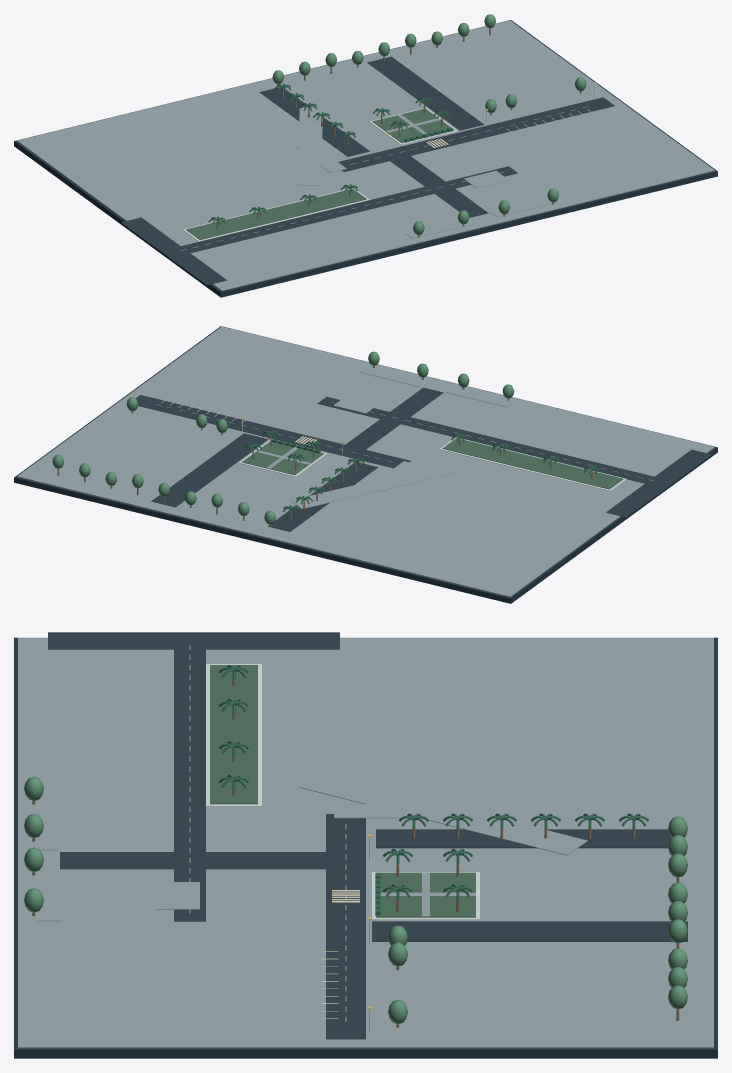
Rendered from lansekap.glb.
The picture shows the model from 3 angles, top to bottom: view 1: azimuth 30°, elevation 25°; view 2: azimuth 150°, elevation 25°; view 3: azimuth 270°, elevation 25°; orthographic projection. The views are drawn at different scales.
Parts seen in each view (by area): view 1: Lansekap_paving, Lansekap_road, Lansekap_base, Lansekap_grass, Lansekap_leaflight, Lansekap_leaf, Lansekap_trim; view 2: Lansekap_paving, Lansekap_road, Lansekap_base, Lansekap_grass, Lansekap_leaflight, Lansekap_leaf, Lansekap_trim, Lansekap_trunk; view 3: Lansekap_paving, Lansekap_road, Lansekap_base, Lansekap_grass, Lansekap_leaflight, Lansekap_leaf, Lansekap_trim, Lansekap_line, Lansekap_trunk.
Part boxes in pixels (bbox=[...]): Lansekap_paving: bbox=[17, 20, 714, 290]; Lansekap_road: bbox=[121, 56, 614, 285]; Lansekap_base: bbox=[14, 20, 717, 297]; Lansekap_grass: bbox=[186, 108, 454, 239]; Lansekap_leaflight: bbox=[272, 14, 586, 235]; Lansekap_leaf: bbox=[208, 83, 452, 225]; Lansekap_trim: bbox=[182, 84, 595, 241]; Lansekap_paving: bbox=[17, 326, 714, 597]; Lansekap_road: bbox=[136, 387, 711, 531]; Lansekap_base: bbox=[14, 326, 717, 603]; Lansekap_grass: bbox=[242, 438, 623, 489]; Lansekap_leaflight: bbox=[52, 351, 514, 524]; Lansekap_leaf: bbox=[245, 430, 600, 513]; Lansekap_trim: bbox=[134, 392, 626, 491]; Lansekap_trunk: bbox=[57, 365, 592, 527]; Lansekap_paving: bbox=[18, 637, 713, 1048]; Lansekap_road: bbox=[48, 632, 687, 1039]; Lansekap_base: bbox=[14, 637, 717, 1058]; Lansekap_grass: bbox=[210, 665, 475, 917]; Lansekap_leaflight: bbox=[24, 776, 687, 1023]; Lansekap_leaf: bbox=[218, 665, 648, 915]; Lansekap_trim: bbox=[206, 664, 479, 1033]; Lansekap_line: bbox=[189, 645, 359, 1021]; Lansekap_trunk: bbox=[32, 680, 679, 1027].
Size of the model in its own units: 246 by 12.75 by 176.
